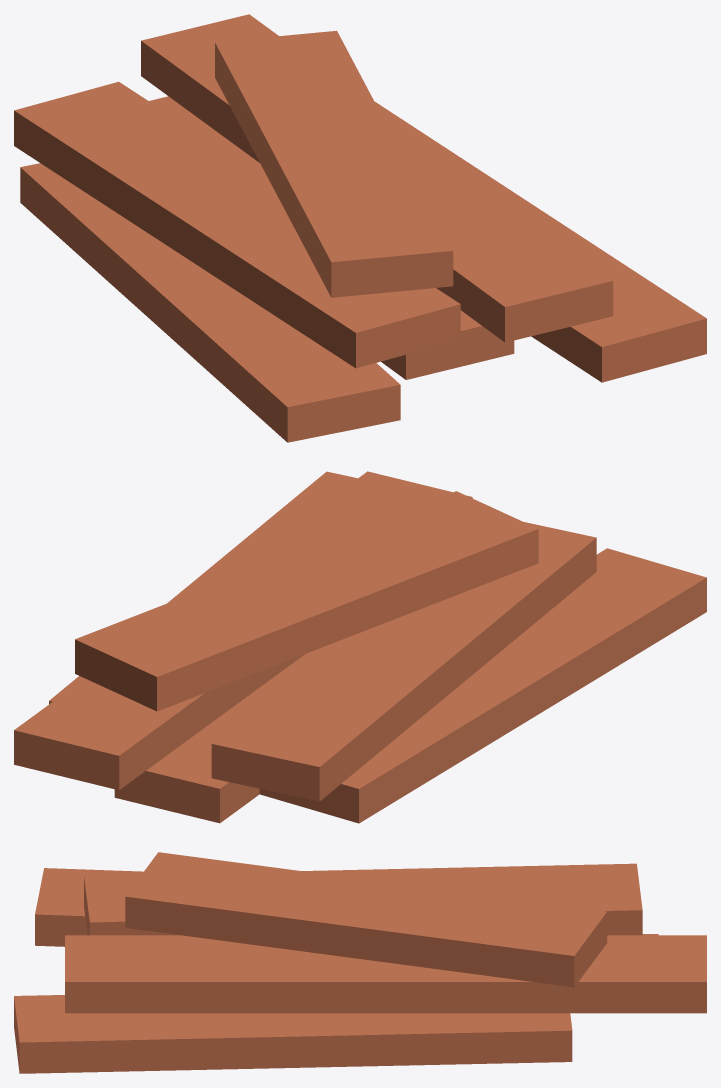
Rendered from resource-planks.obj.
3 views of the same model, one above another, from view 1: azimuth 30°, elevation 25°; view 2: azimuth 150°, elevation 25°; view 3: azimuth 270°, elevation 25° (orthographic). The views are drawn at different scales.
Bounding box in the file's own units: 0.3729 × 0.0936 × 0.626.
